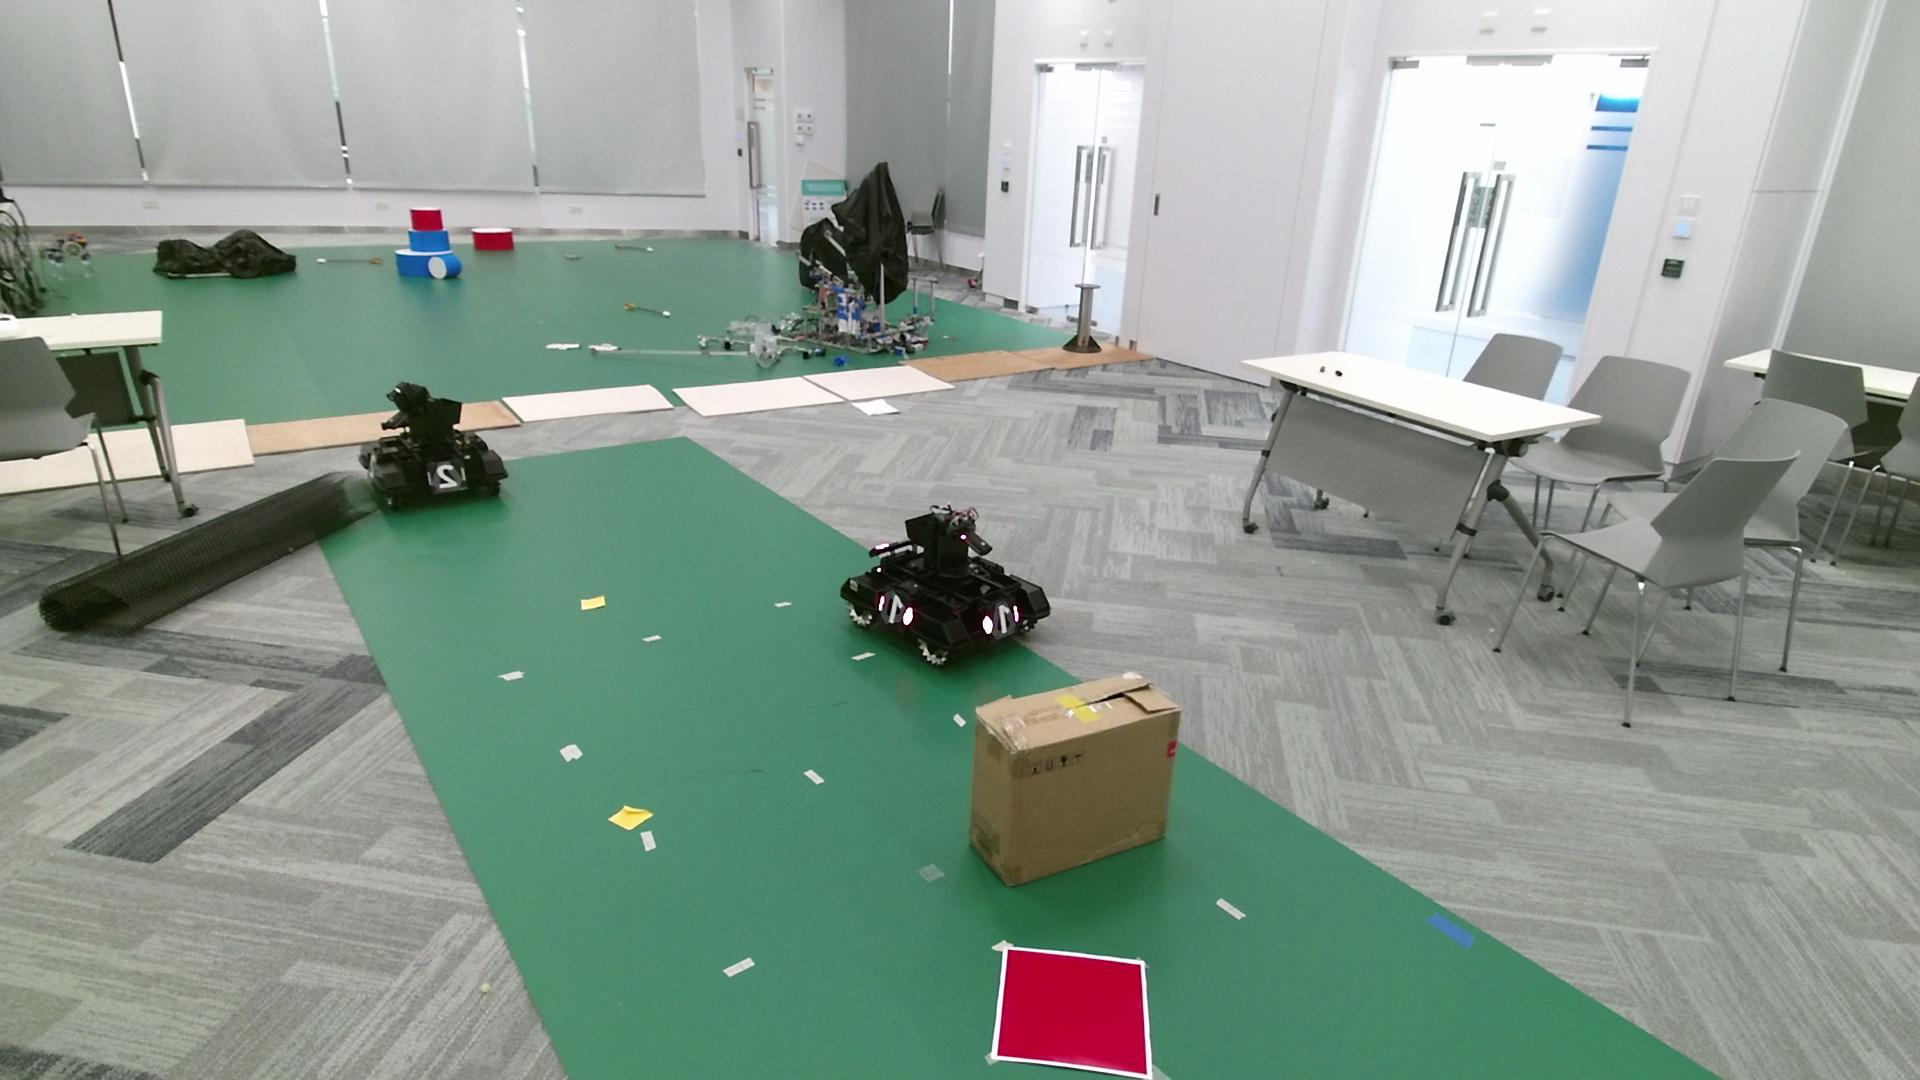robot: (839, 502, 1051, 667), (357, 380, 509, 509)
